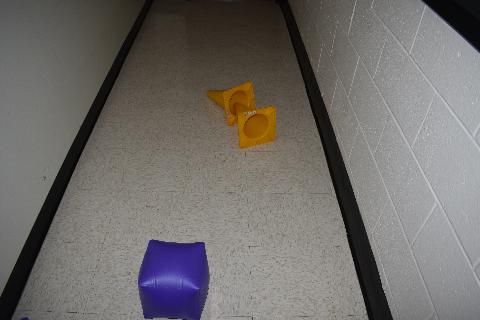cone: (206, 81, 256, 127), (232, 101, 276, 149)
cube: (138, 238, 210, 320)
